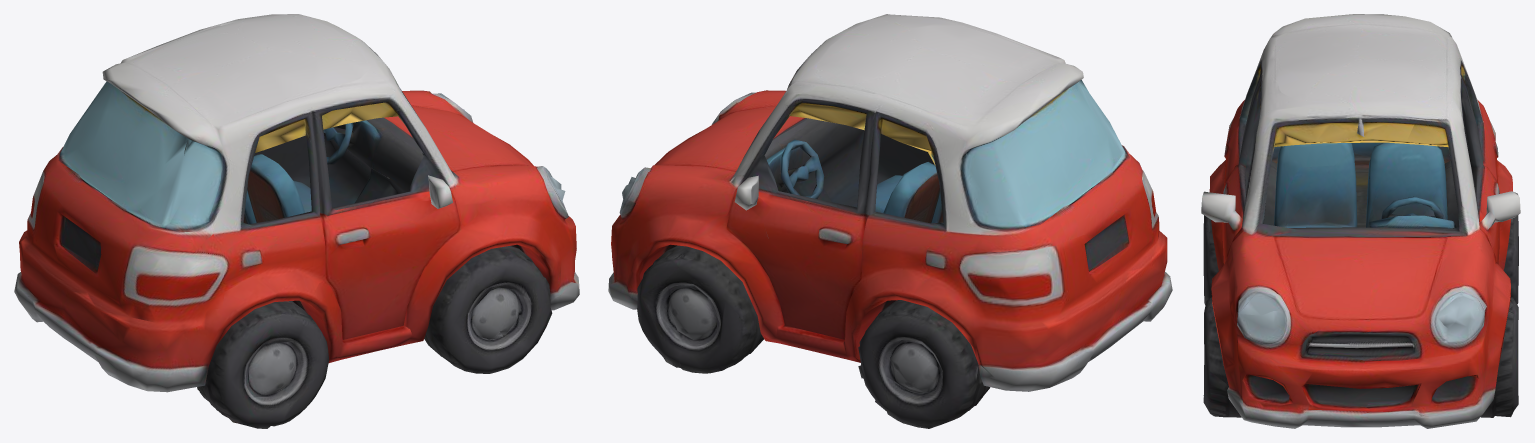
Rendered from ObstaculoCarro.glb.
The picture shows the model from 3 angles, left to right: view 1: azimuth 30°, elevation 25°; view 2: azimuth 150°, elevation 25°; view 3: azimuth 270°, elevation 25°; orthographic projection. The views are drawn at different scales.
Parts seen in each view (by area): view 1: tripo_node_ec22dbbc-d799-4067-9635-8b3901876e78; view 2: tripo_node_ec22dbbc-d799-4067-9635-8b3901876e78; view 3: tripo_node_ec22dbbc-d799-4067-9635-8b3901876e78.
Boxes of the visible parts, left/top/right/bottom form: tripo_node_ec22dbbc-d799-4067-9635-8b3901876e78: left=14, top=14, right=579, bottom=428; tripo_node_ec22dbbc-d799-4067-9635-8b3901876e78: left=608, top=14, right=1172, bottom=428; tripo_node_ec22dbbc-d799-4067-9635-8b3901876e78: left=1201, top=14, right=1520, bottom=428.
Size of the model in its own units: 1.94 by 1.2 by 1.22.
1 material, 1 textured.
